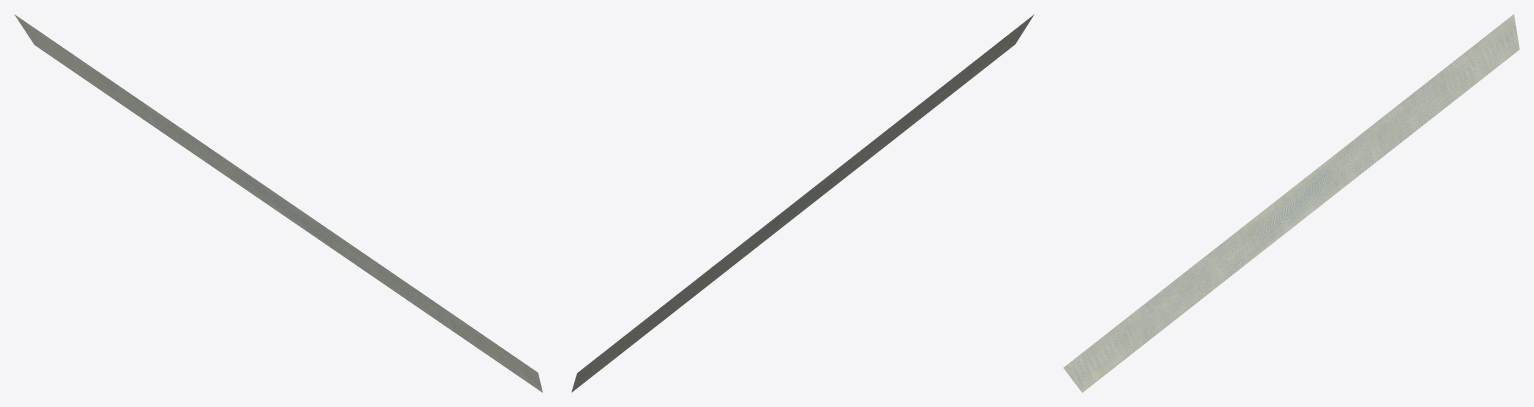
The model's file is 人民英雄纪念碑126.dae.
The picture shows the model from 3 angles, left to right: view 1: azimuth 30°, elevation 25°; view 2: azimuth 150°, elevation 25°; view 3: azimuth 330°, elevation 25°; orthographic projection. The views are drawn at different scales.
Parts seen in each view (by area): view 1: SketchUp; view 2: SketchUp; view 3: SketchUp.
Part boxes in pixels (x1,y1,x2,y2): SketchUp: (14, 14, 542, 392); SketchUp: (571, 14, 1034, 392); SketchUp: (1063, 14, 1519, 392).
Size of the model in its own units: 24.43 by 555 by 17.76.
